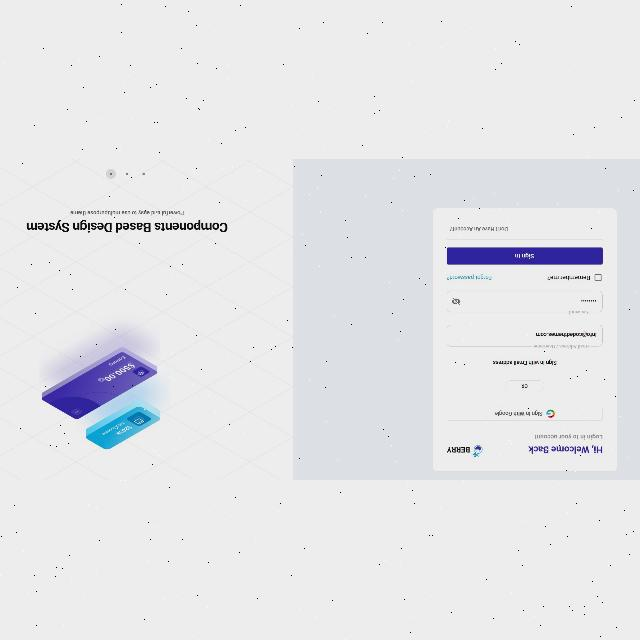QLabel: (528, 445, 604, 455), (534, 435, 604, 441), (493, 360, 557, 366), (495, 411, 543, 417), (446, 275, 492, 281), (548, 276, 590, 282), (450, 228, 508, 232), (446, 448, 469, 454), (515, 254, 535, 260), (521, 385, 527, 389)
VBtn: (446, 248, 604, 266), (446, 408, 604, 422), (506, 382, 544, 392)
VCard: (432, 208, 618, 474)
VCarousel: (0, 160, 294, 480)
VCheckbox: (594, 274, 602, 282)
VDivider: (550, 387, 604, 388), (447, 387, 501, 388), (446, 240, 604, 240)
VIcon: (546, 411, 556, 419)
VImg: (473, 446, 483, 458)
VTextField: (446, 291, 604, 315), (447, 326, 603, 350)
